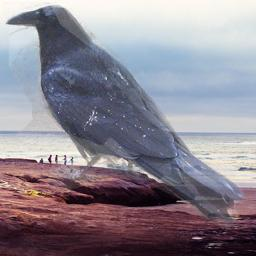Crow: (3, 2, 245, 230)
